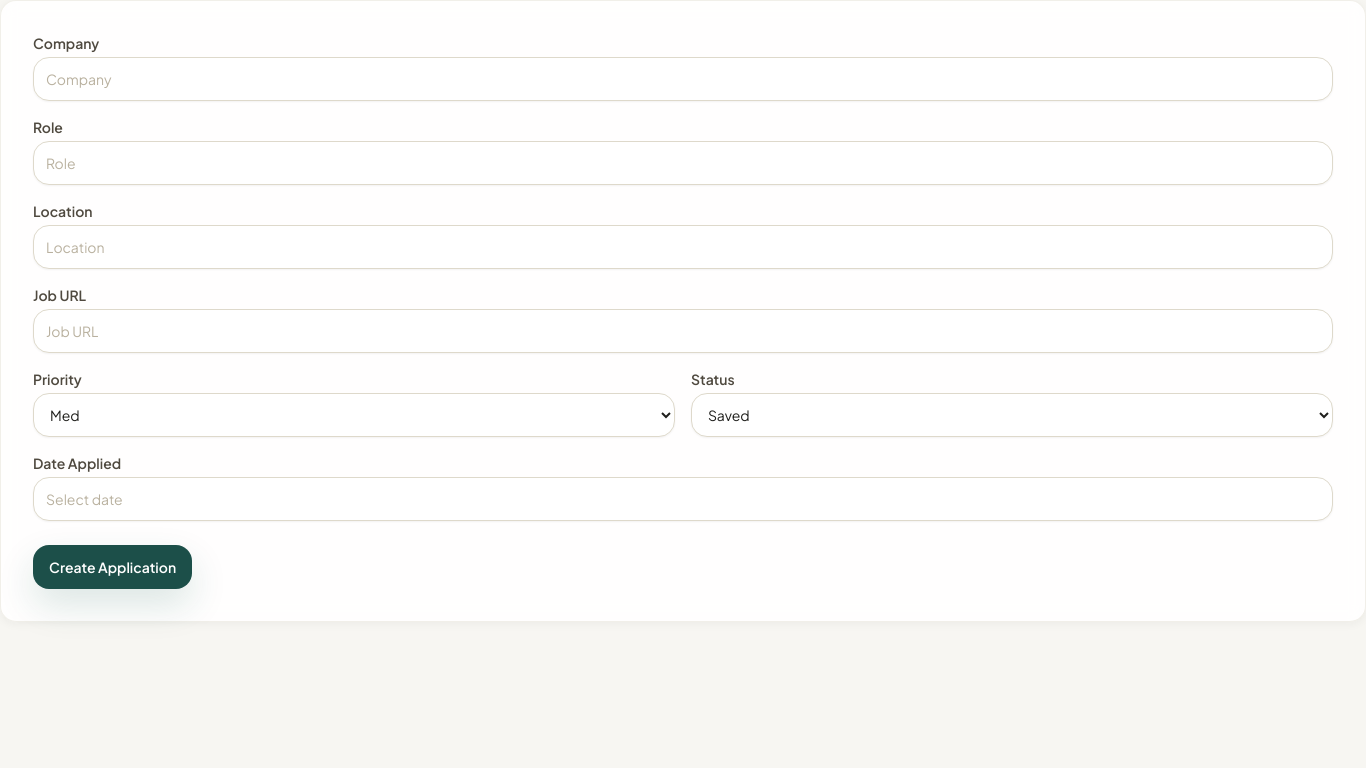
NewApplication › clears a field's error once the user types in it
The width and height of the screenshot is (1366, 768).
Submit the form
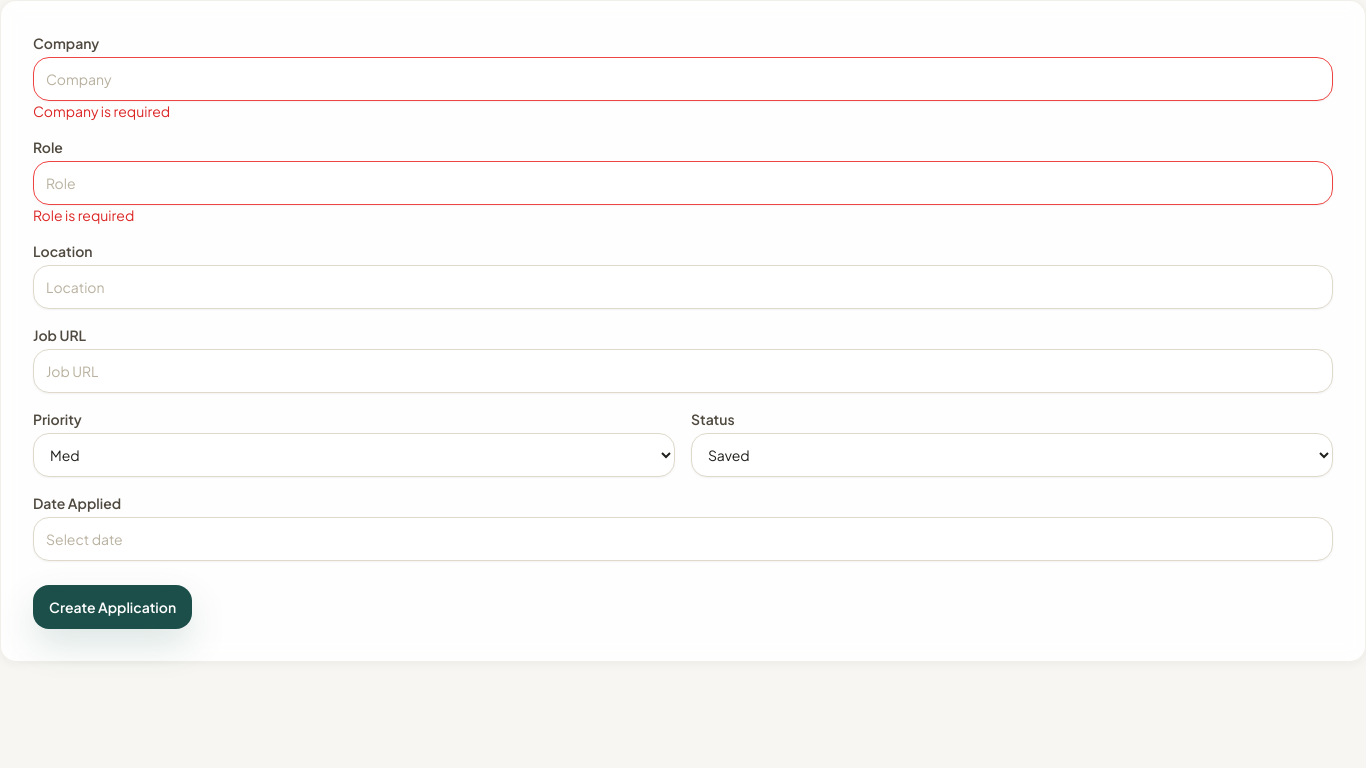
Check: the text "Company is required" is shown, box x1=33 y1=102 x2=170 y2=120
Type "A" into the field with placeholder "Company" at [683, 79], box x1=33 y1=57 x2=1333 y2=101
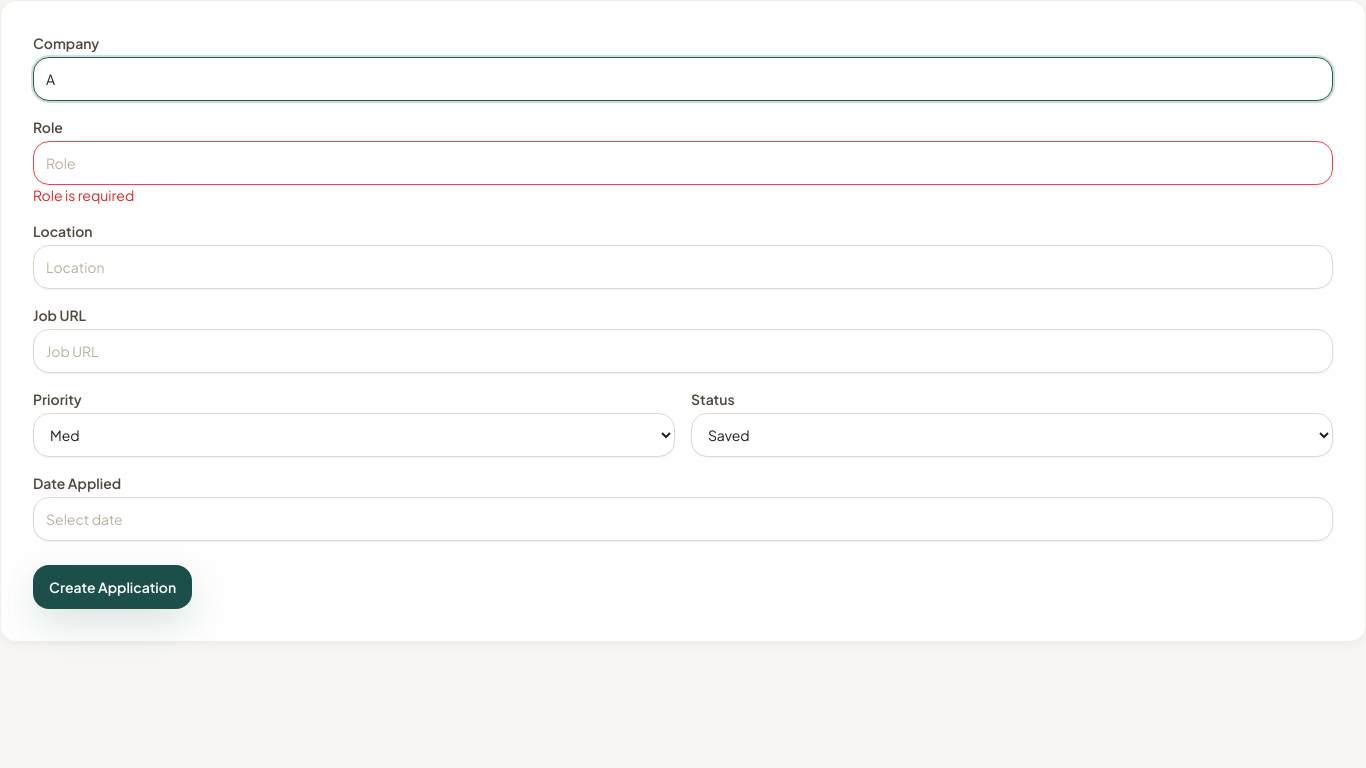
Check: the text "Company is required" is gone
